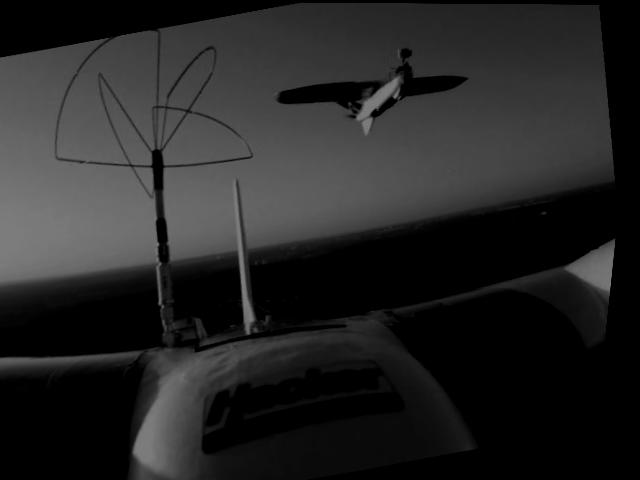hedef: (259, 21, 494, 160)
